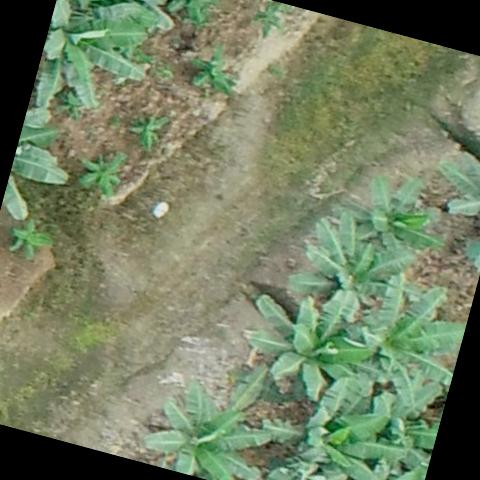Banana-plant: (233, 279, 376, 402), (350, 272, 473, 408), (278, 204, 410, 323), (30, 0, 158, 121), (259, 378, 402, 480), (326, 160, 455, 268), (143, 385, 274, 480)
